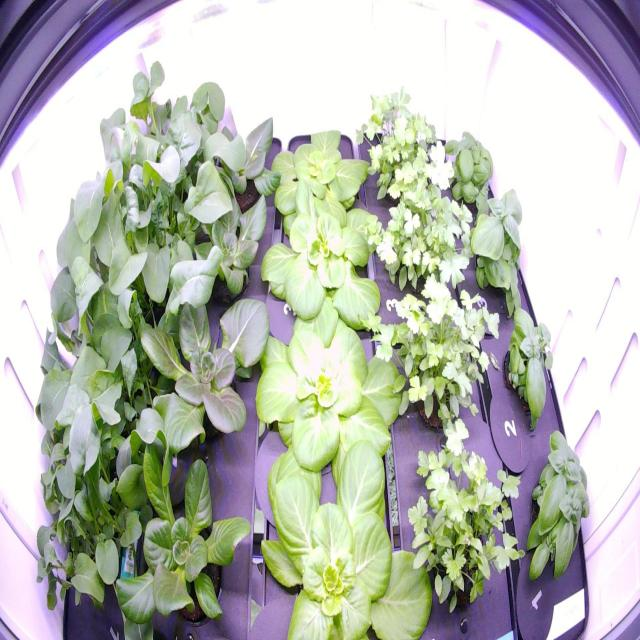young: (240, 428, 434, 640), (244, 282, 411, 492), (123, 261, 287, 471), (107, 421, 260, 631), (254, 177, 401, 347), (166, 158, 282, 309), (260, 106, 376, 228), (185, 97, 285, 215)
